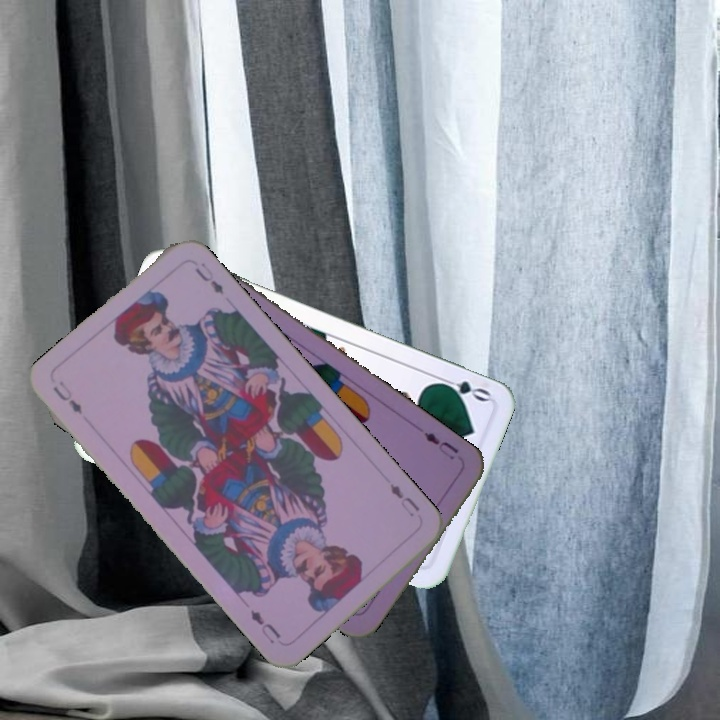EU: (48, 376, 85, 418), (385, 479, 423, 519), (420, 428, 461, 463)
GO: (433, 373, 492, 405)
